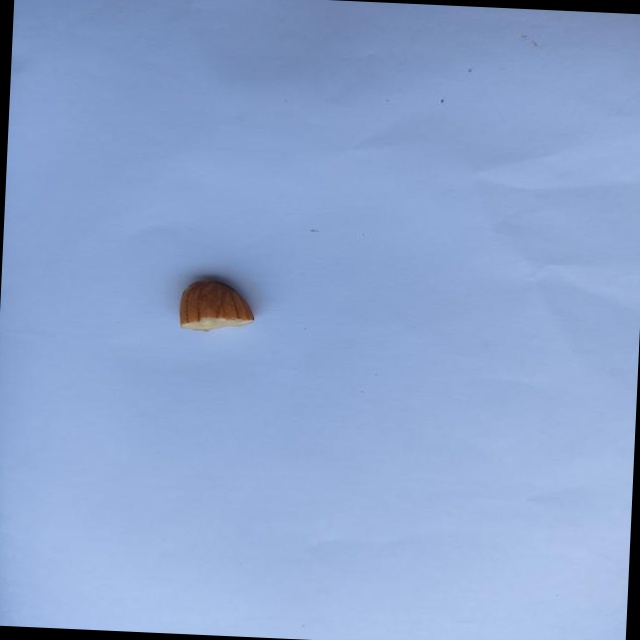grade4: (171, 272, 265, 338)
